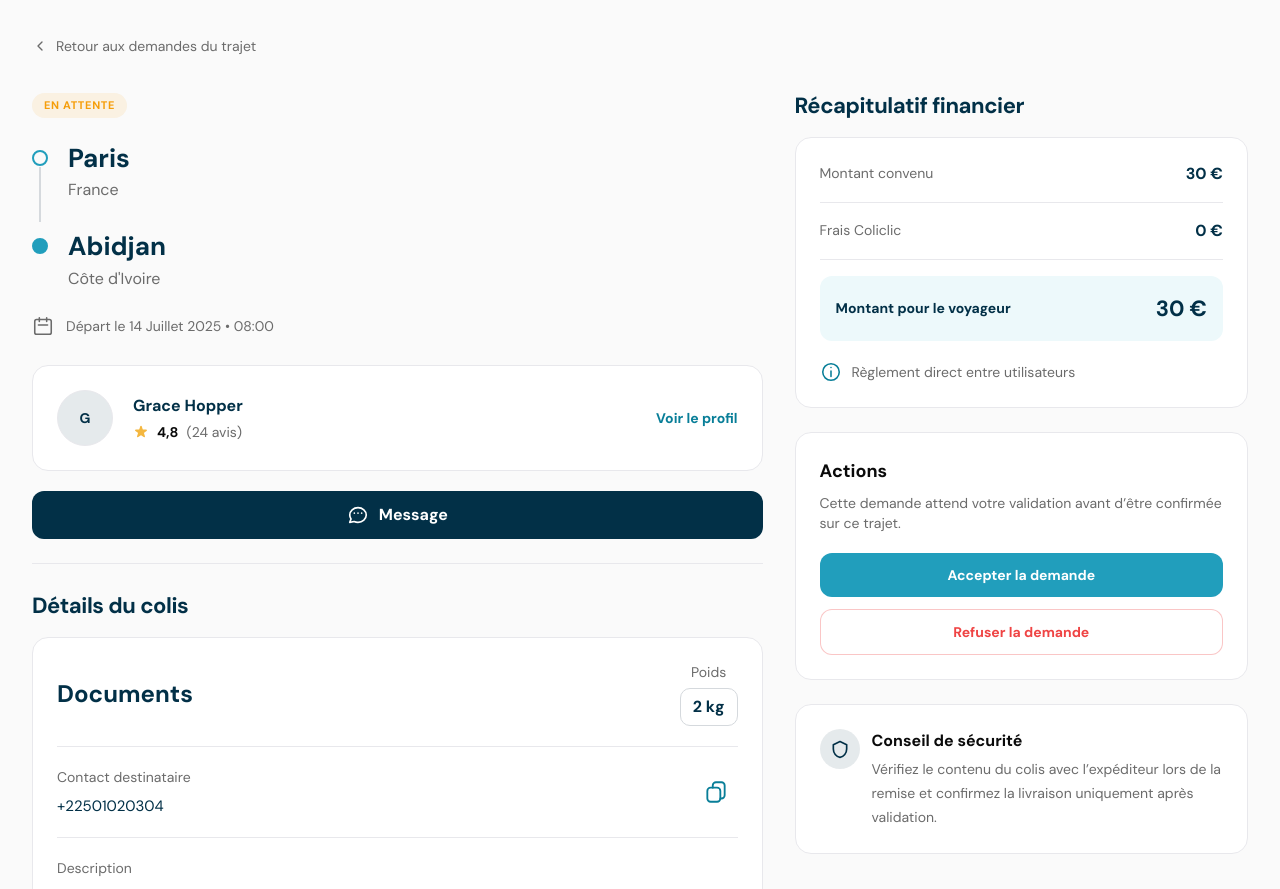
ReservationBookingDetailPageComponent › copies the recipient contact from the button and announces success
Click the button with class "copy-contact". click: (716, 792)
box: [694,770,738,814]
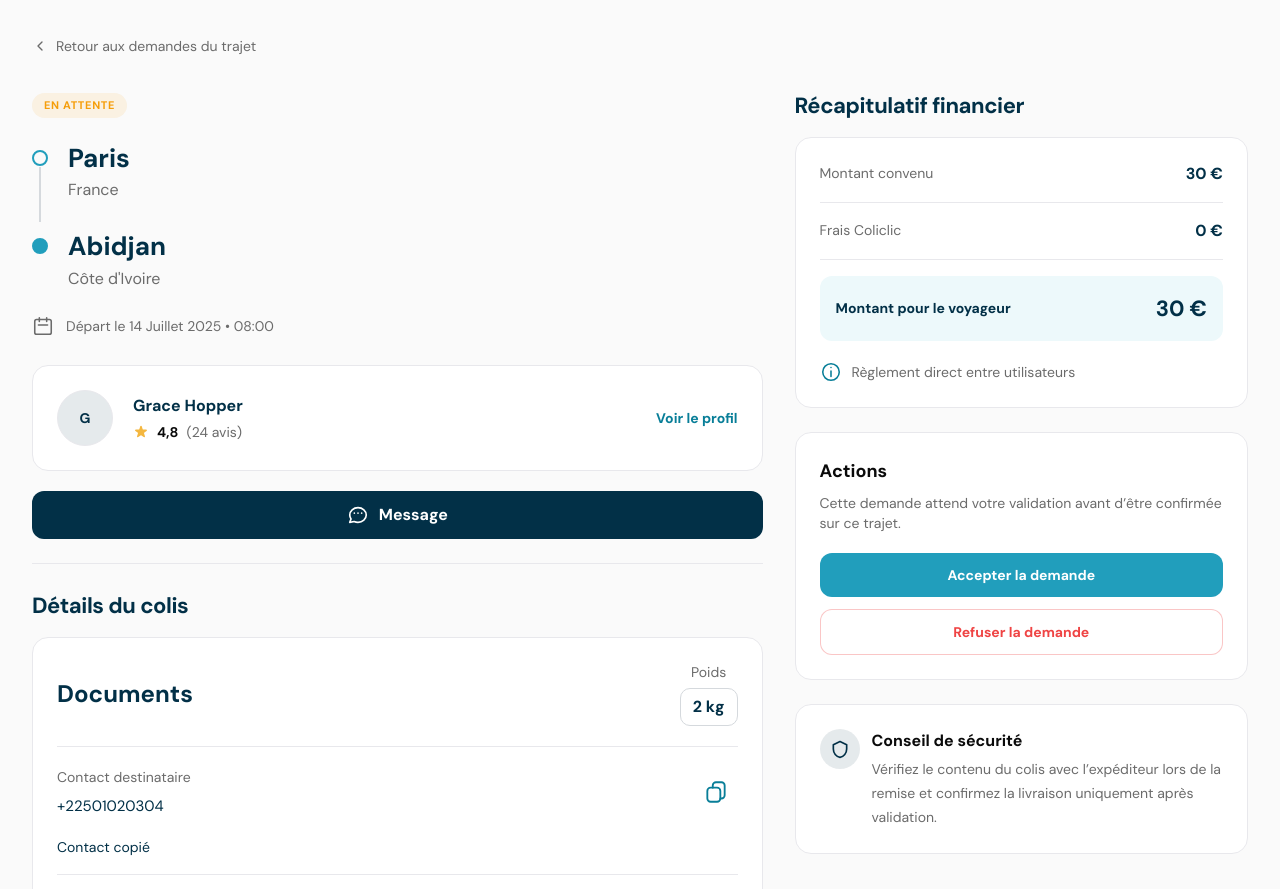
Result: the message "Contact copié" is shown at [57,838,150,856]
